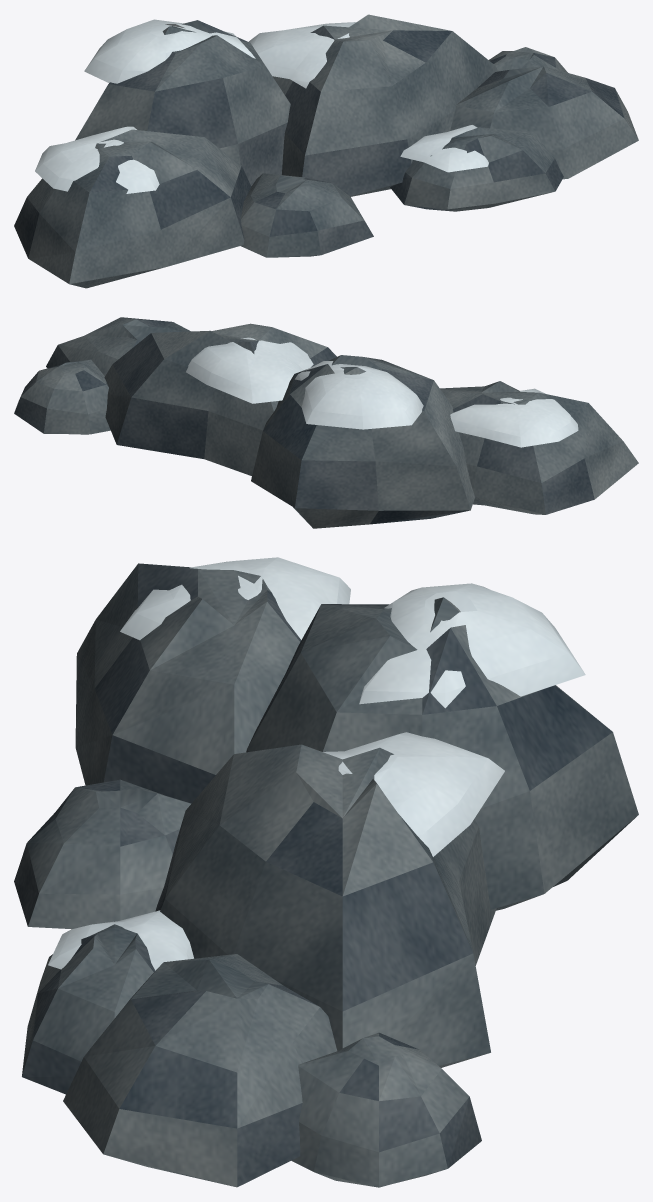
File: 26_Shoreline_Rocks.obj
3 renders of one model, top to bottom at view 1: azimuth 30°, elevation 25°; view 2: azimuth 150°, elevation 25°; view 3: azimuth 270°, elevation 25°, orthographic. The views are drawn at different scales.
Parts seen in each view (by area): view 1: 26_Shoreline_Rocks; view 2: 26_Shoreline_Rocks; view 3: 26_Shoreline_Rocks.
Part boxes in pixels (x1=…): 26_Shoreline_Rocks: x1=14, y1=14, x2=638, y2=288; 26_Shoreline_Rocks: x1=14, y1=317, x2=638, y2=528; 26_Shoreline_Rocks: x1=14, y1=557, x2=638, y2=1187.
Size of the model in its own units: 2.16 by 0.5402 by 1.1.
Materials: 3 (3 with a texture image).
